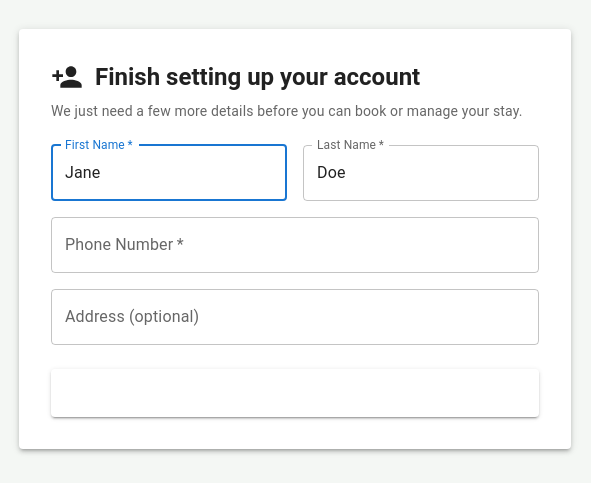
Test: CompleteProfilePage › rejects submission when the phone number is missing
The width and height of the screenshot is (591, 483).
Check: the field labelled "First Name *" holds "Jane", box left=51, top=145, right=287, bottom=201
Click the button "Continue": (295, 393) left=51, top=369, right=539, bottom=417
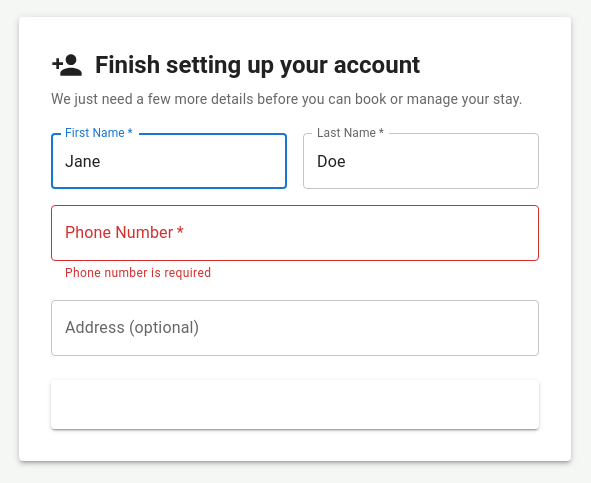
Check: the text "Phone number is required" is shown, box left=65, top=266, right=211, bottom=280
